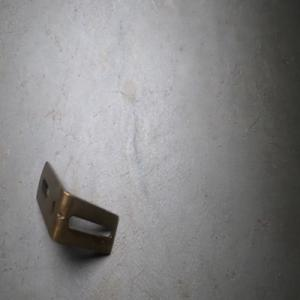MetalPart: (35, 159, 119, 256)
